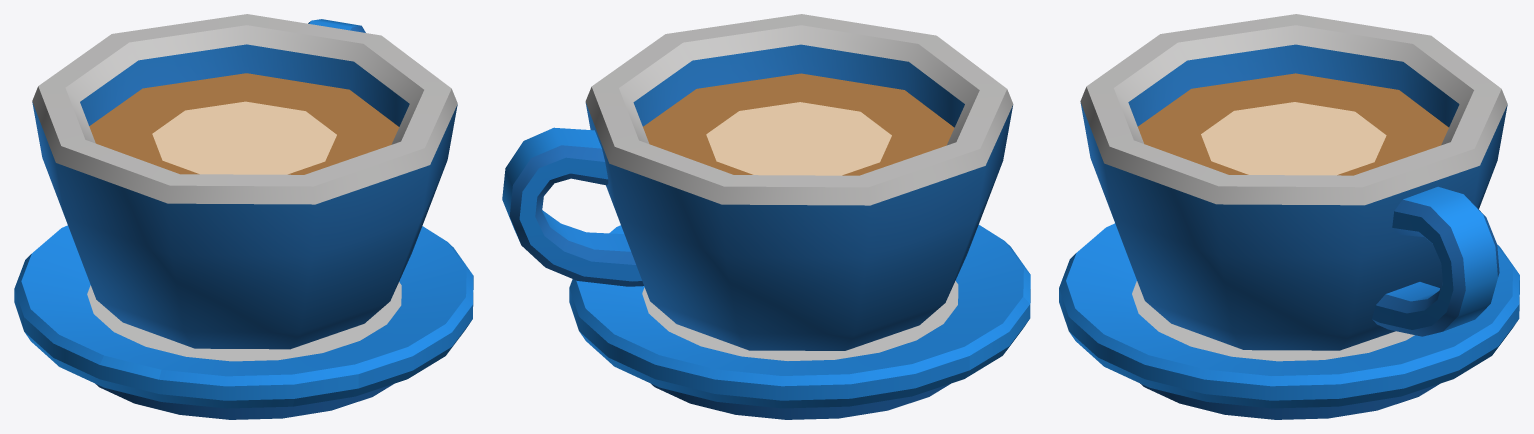
Rendered from Coffy_C.glb.
3 renders of one model, left to right at view 1: azimuth 30°, elevation 25°; view 2: azimuth 150°, elevation 25°; view 3: azimuth 270°, elevation 25°, orthographic.
Parts seen in each view (by area): view 1: CoffeCup_C, Coffy_C; view 2: CoffeCup_C, Coffy_C; view 3: CoffeCup_C, Coffy_C.
Part boxes in pixels (x1=…): CoffeCup_C: x1=32, y1=14, x2=457, y2=349; Coffy_C: x1=14, y1=225, x2=473, y2=419; CoffeCup_C: x1=502, y1=14, x2=1013, y2=350; Coffy_C: x1=569, y1=225, x2=1030, y2=419; CoffeCup_C: x1=1080, y1=14, x2=1507, y2=350; Coffy_C: x1=1059, y1=223, x2=1519, y2=419.
Size of the model in its own units: 0.1708 by 0.0967 by 0.1658.
1 material, 1 textured.
